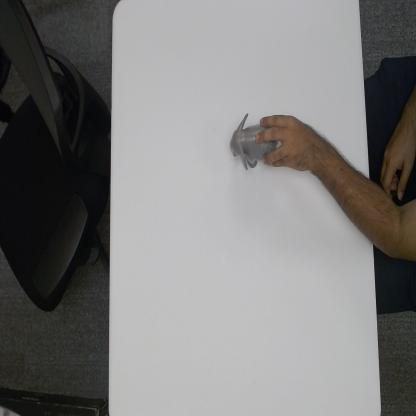Arm: (313, 131, 370, 243)
Elephant: (230, 108, 282, 171)
Hand: (254, 113, 313, 172)
